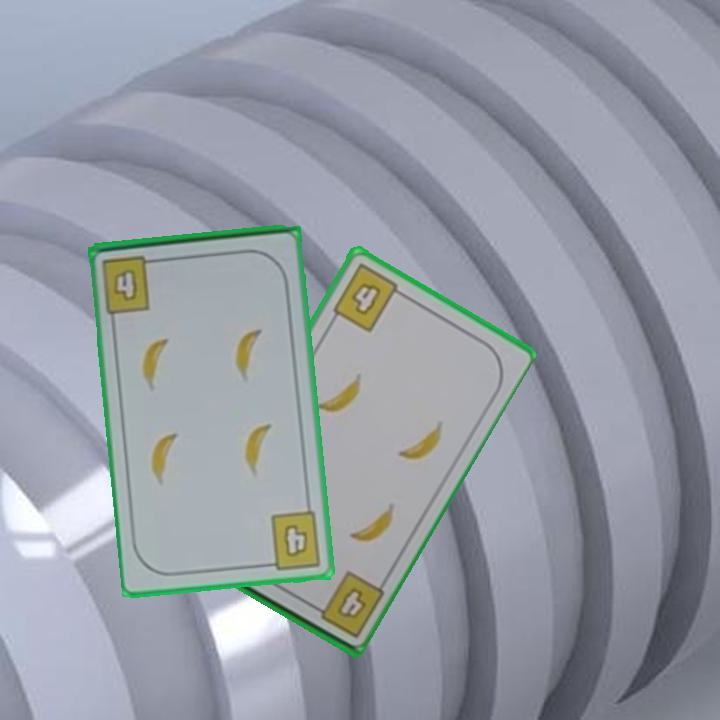4b: (328, 259, 408, 336), (305, 567, 387, 641), (260, 507, 325, 573), (98, 251, 163, 316)
